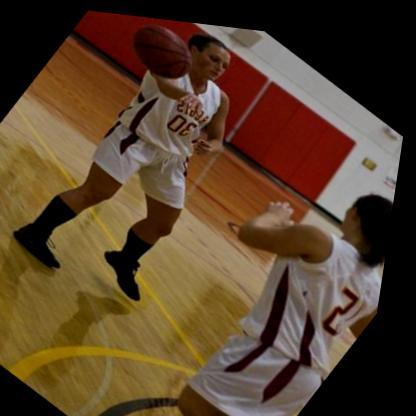basketball: (117, 12, 209, 92)
